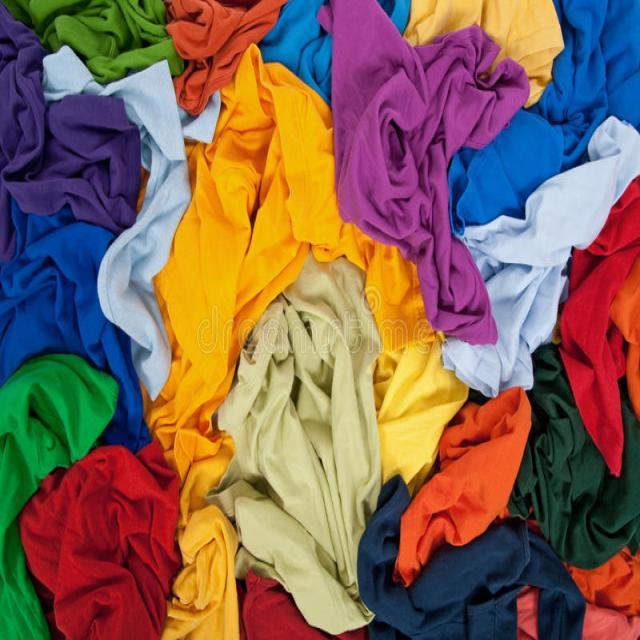clothes: (41, 66, 488, 540)
